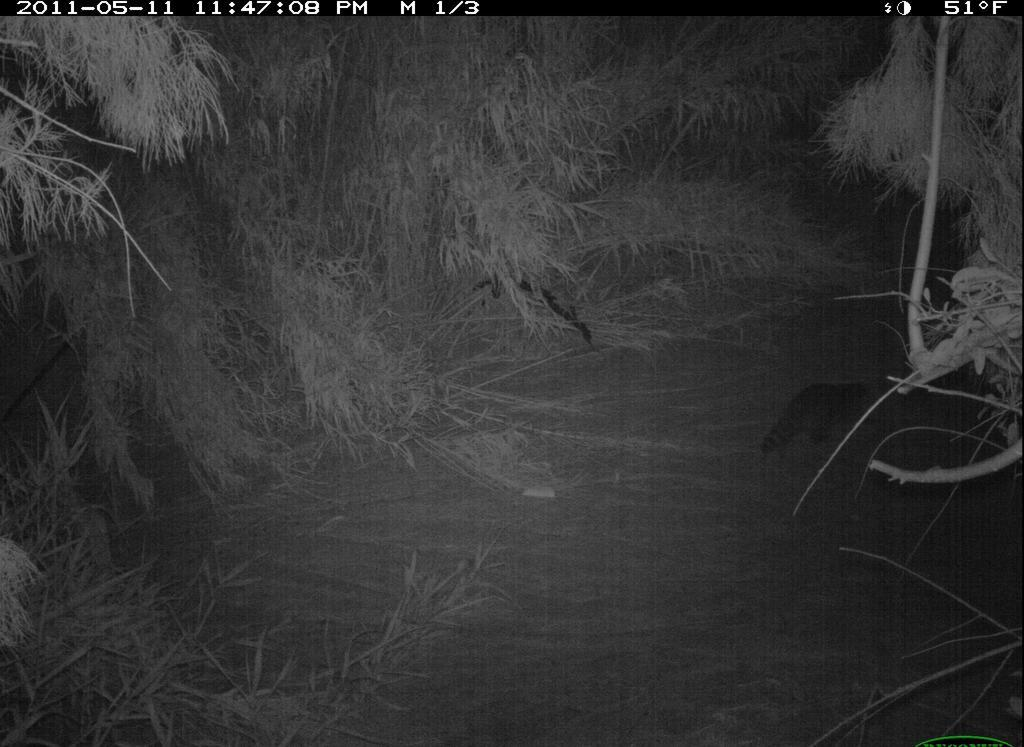raccoon: (742, 364, 879, 470)
